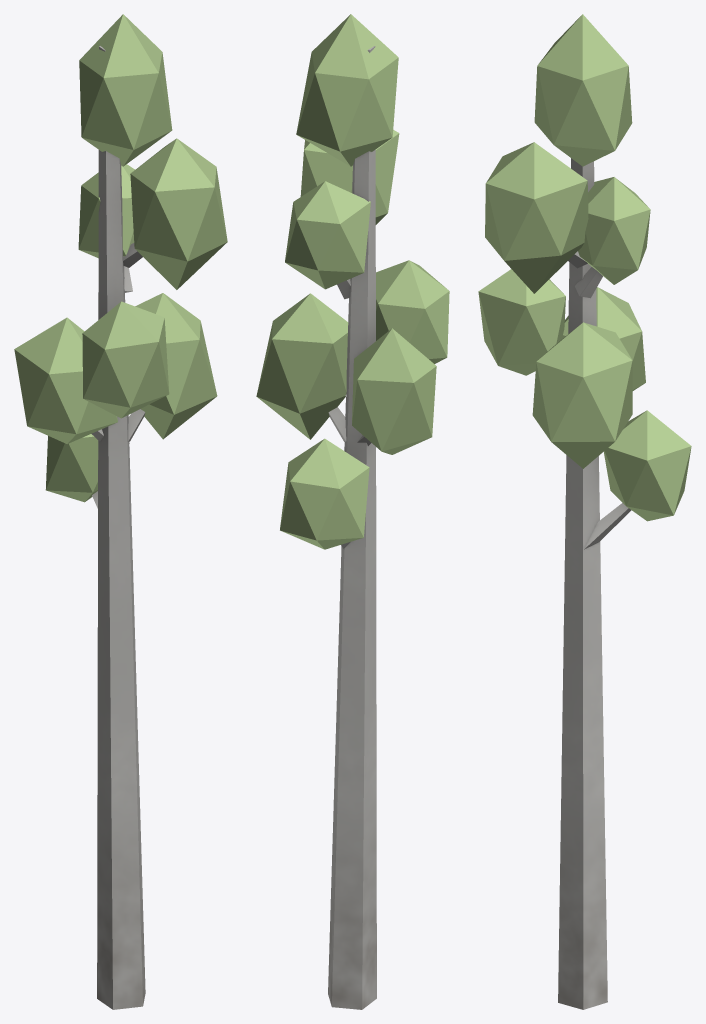
The model's file is arv_betula_6.glb.
3 renders of one model, left to right at view 1: azimuth 30°, elevation 25°; view 2: azimuth 150°, elevation 25°; view 3: azimuth 270°, elevation 25°, orthographic.
Visible parts, largest first — view 1: arv_betula_6; view 2: arv_betula_6; view 3: arv_betula_6.
Boxes of the visible parts, x1,y1,x2,y2 form: arv_betula_6: [14, 14, 227, 1009]; arv_betula_6: [256, 14, 449, 1009]; arv_betula_6: [478, 14, 691, 1009].
Bounding box in the file's own units: 0.4785 × 2.7 × 0.5289.
Materials: 2 (1 with a texture image).
